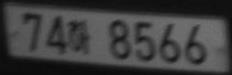4: (45, 14, 67, 54)
5: (133, 21, 157, 62)
6: (183, 23, 208, 65), (158, 22, 182, 64)
7: (22, 12, 42, 50)
8: (107, 18, 132, 59)
하: (67, 19, 91, 54)
